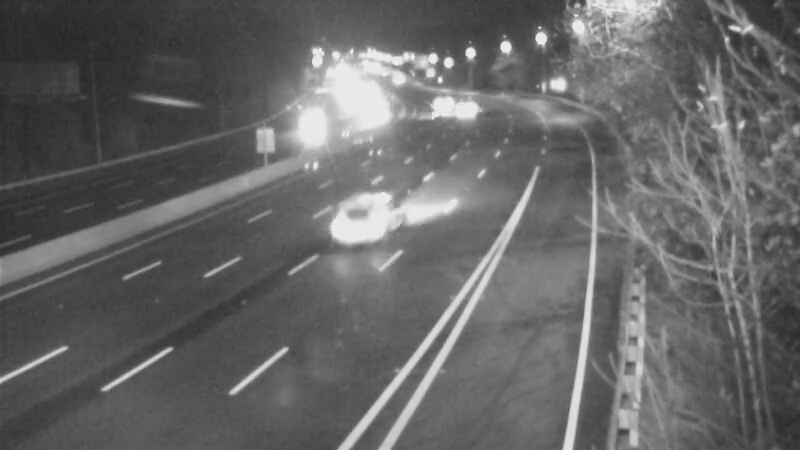vehicle: (325, 175, 405, 255), (414, 77, 464, 127), (438, 81, 488, 131), (289, 99, 339, 149)
